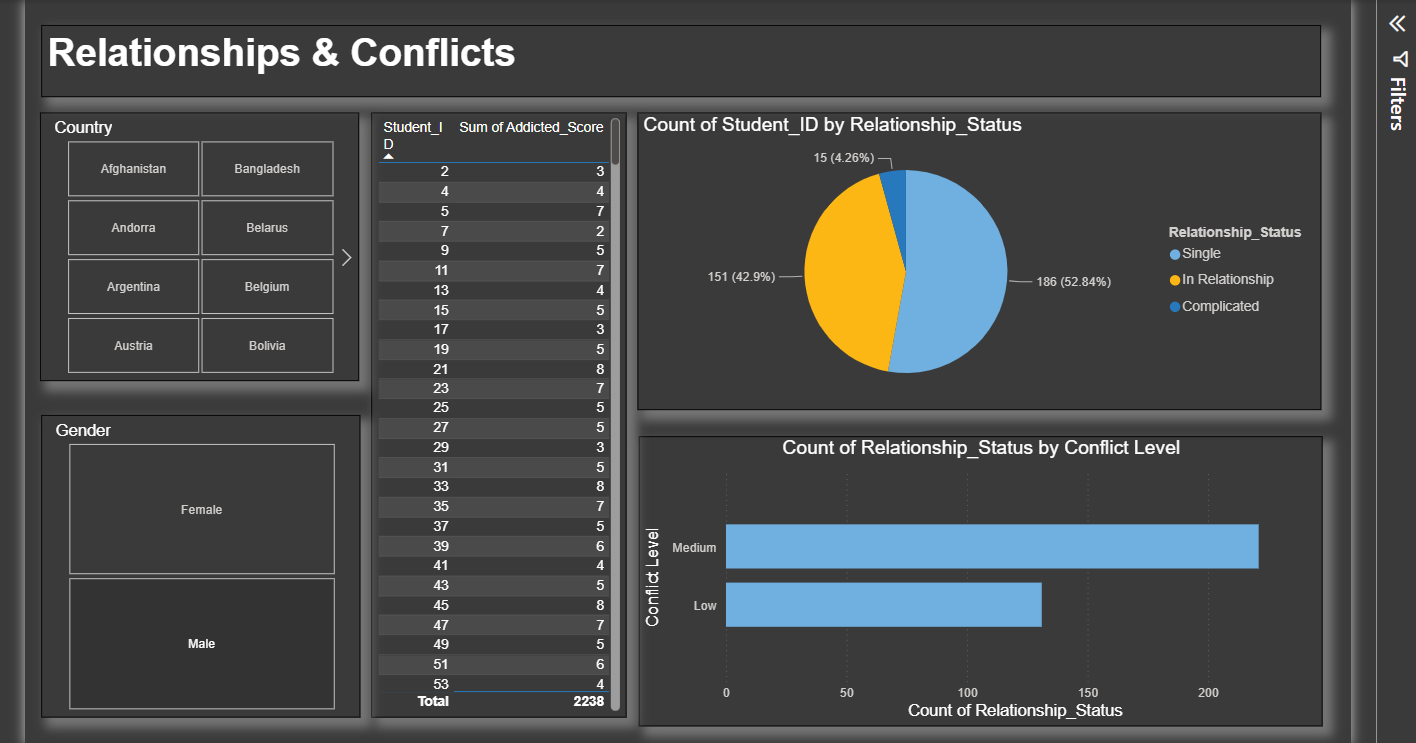

What the dashboard file says about the page in this screenshot:
{"tool":"powerbi","page":{"name":"Relationships & Conflicts","canvas":[1280,720],"ordinal":3},"visuals":[{"type":"barChart","fields":{"Category":["Student Details.Conflict Level"],"Y":["CountNonNull(Student Details.Relationship_Status)"]},"box":[592.4,421,659.9,279.9],"z":0},{"type":"tableEx","fields":{"Values":["Student Details.Student_ID","Sum(Student Details.Addicted_Score)"]},"box":[334.2,108.6,246.1,583.9],"z":1000},{"type":"pieChart","fields":{"Category":["Student Details.Relationship_Status"],"Y":["CountNonNull(Student Details.Student_ID)"]},"box":[591.2,108.6,659.9,287.1],"z":2000},{"type":"slicer","fields":{"Values":["Student Details.Country"]},"box":[14.5,108.6,307.6,259.4],"z":3000},{"type":"slicer","fields":{"Values":["Student Details.Gender"]},"box":[15.7,400.5,307.6,292],"z":4000},{"type":"textbox","box":[15.7,24.1,1235.4,70],"z":5000}]}

Visuals, with their boxes on the page's 1280x720 design canvas (x1, y1, x2, y2). These are canvas units, not pixel positions in the 1416x743 screenshot, which may show the page scaled, cropped or inside an application window:
barChart - Student Details.Conflict Level x CountNonNull(Student Details.Relationship_Status): [592,421,1252,701]
tableEx - Student Details.Student_ID x Sum(Student Details.Addicted_Score): [334,109,580,692]
pieChart - Student Details.Relationship_Status x CountNonNull(Student Details.Student_ID): [591,109,1251,396]
slicer - Student Details.Country: [14,109,322,368]
slicer - Student Details.Gender: [16,400,323,692]
textbox: [16,24,1251,94]
